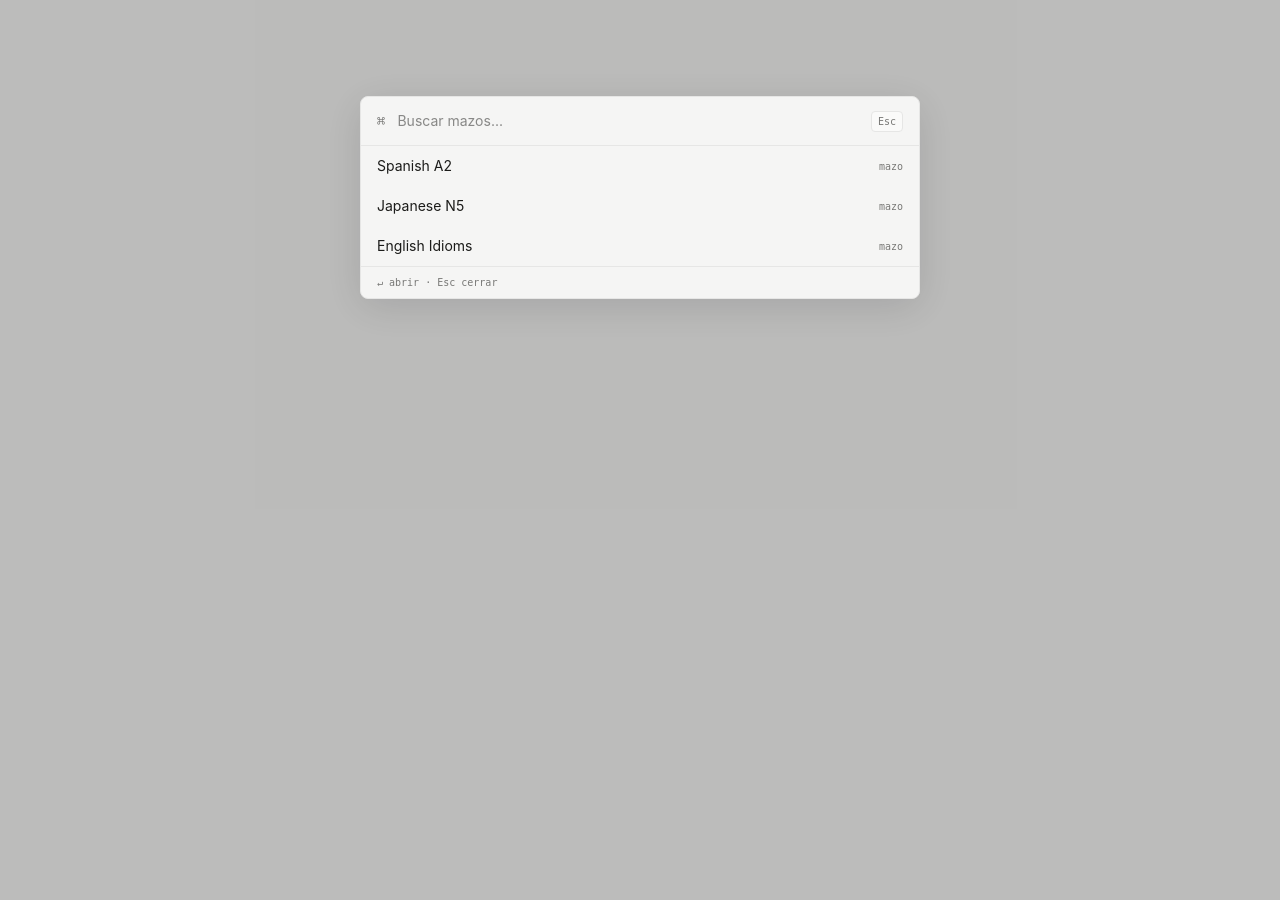
Test: CommandPalette — filtering (phase 7.5) › phase7_5-15: "span" filters to 1 item: Spanish A2
This screenshot has width=1280, height=900.
Type "span" into the field with test id "command-palette-input". click: x=628, y=121
box: [397,97,859,145]
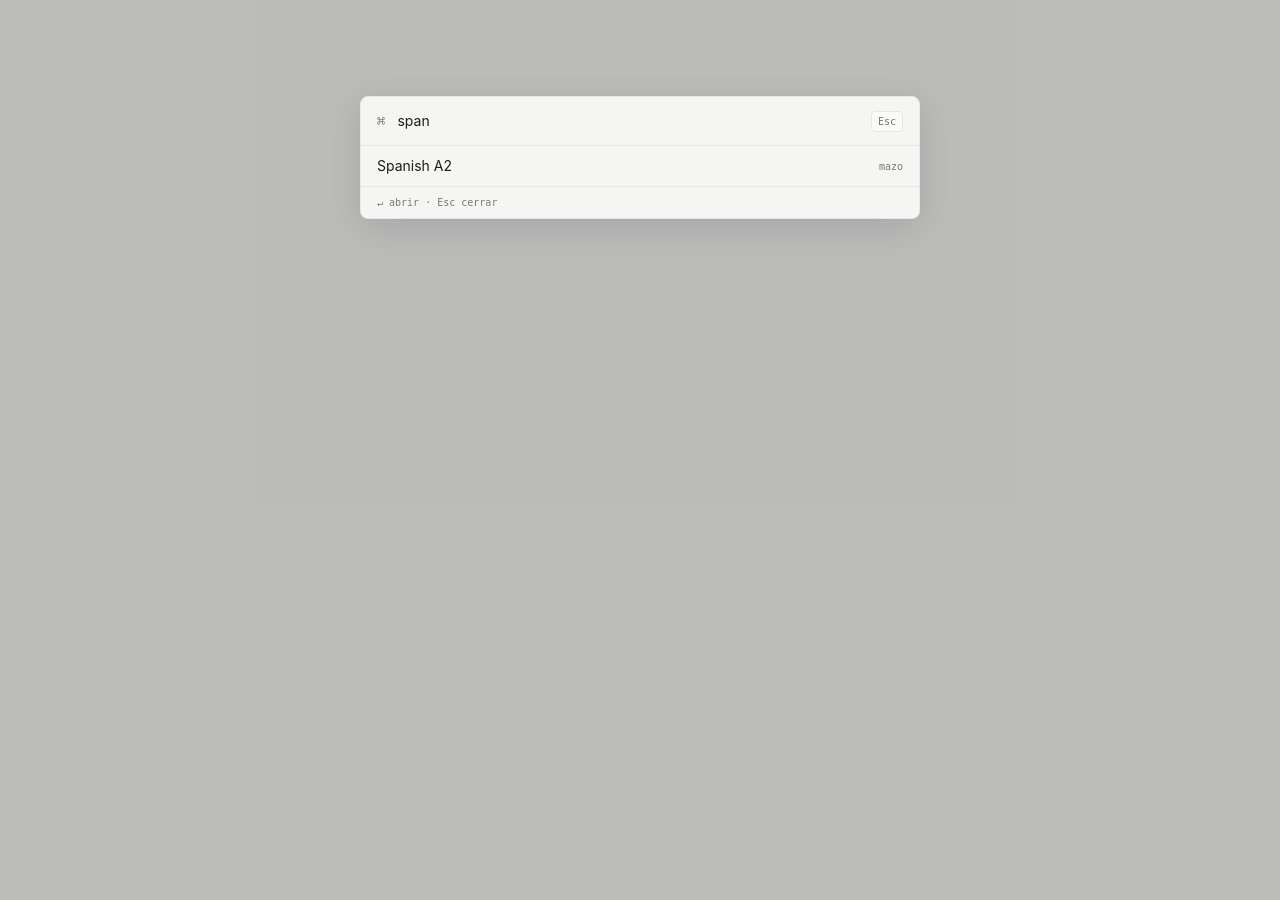
Expected: the list item with test id "palette-item" shows "Spanish A2", [377,157,452,174]
Result: the number of list items with test id "palette-item" is 1 at [377,157,903,174]
